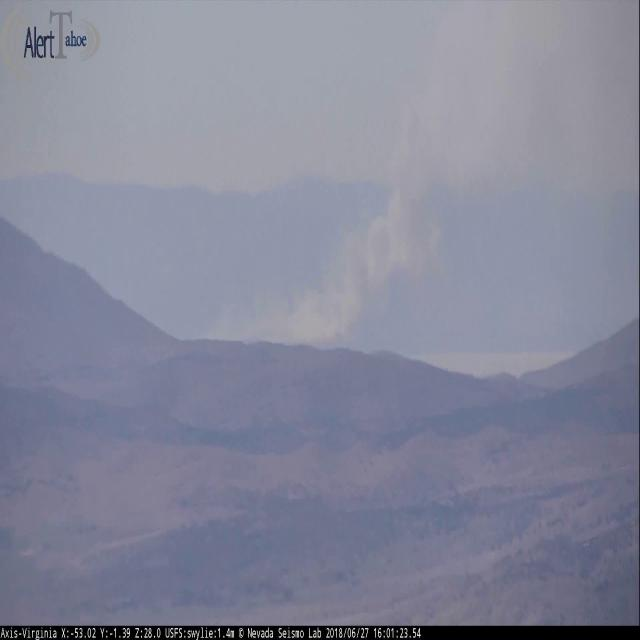smoke: (222, 2, 578, 344)
